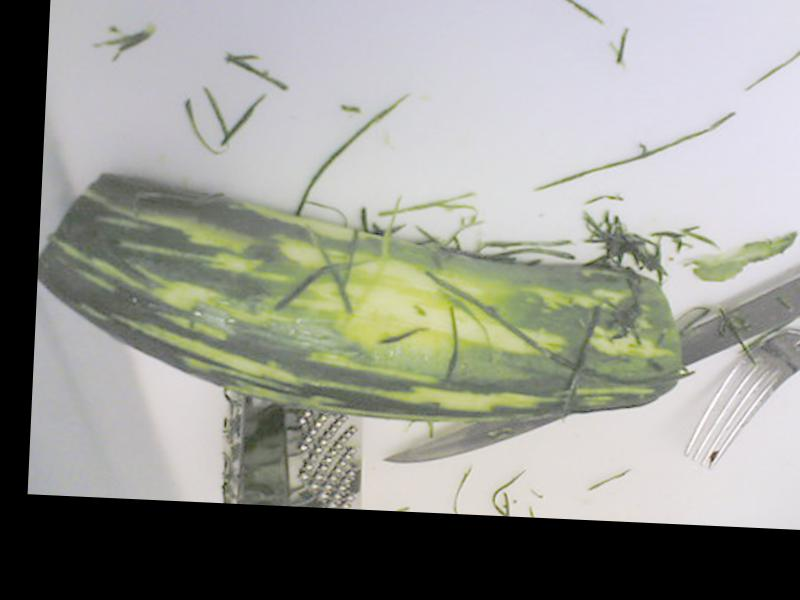Cucumber: (35, 169, 690, 432)
